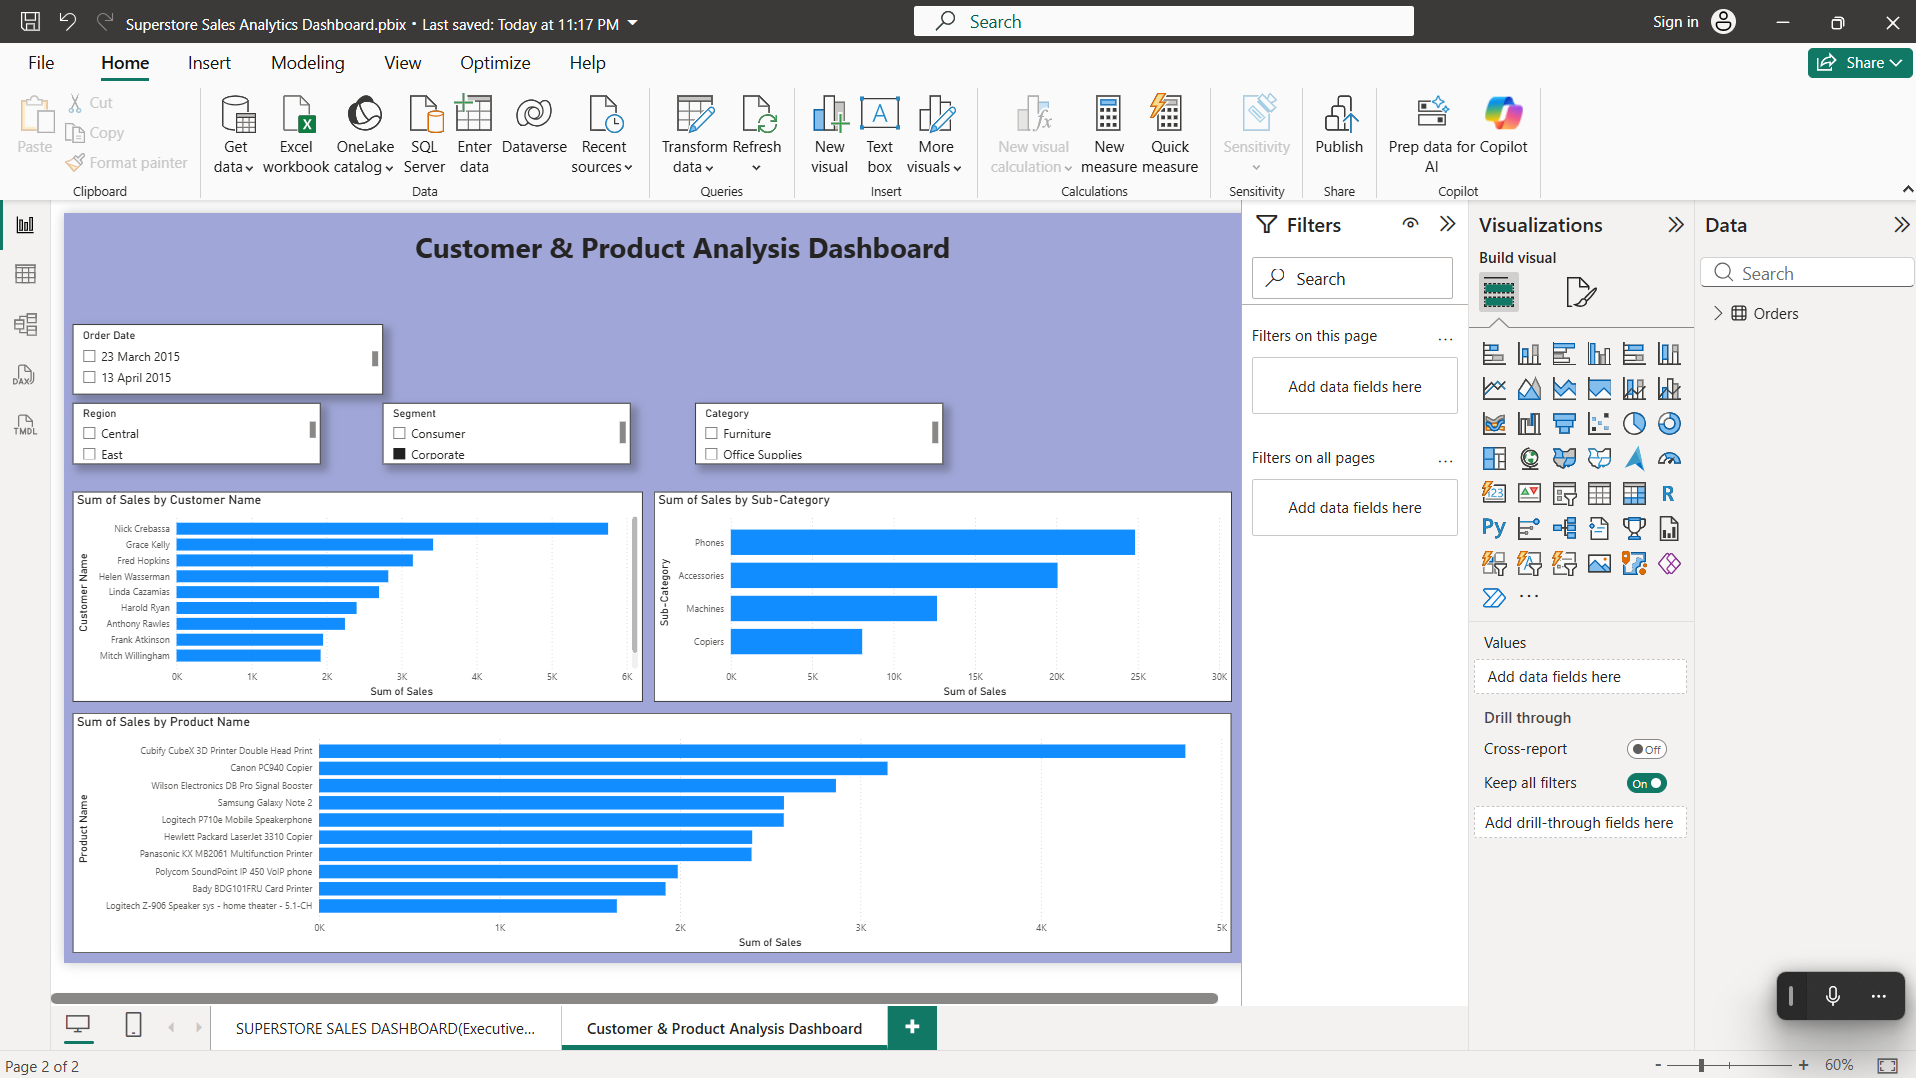

Layout of this report page (visuals, bound fields, positions):
{"tool":"powerbi","page":{"name":"Customer & Product Analysis Dashboard","canvas":[1600,1000],"ordinal":1},"visuals":[{"type":"clusteredBarChart","fields":{"Y":["Sum(Orders.Sales)"],"Category":["Orders.Customer Name"]},"box":[11.7,371.7,760,280],"z":0},{"type":"clusteredBarChart","fields":{"Category":["Orders.Sub-Category"],"Y":["Sum(Orders.Sales)"]},"box":[786.7,371.7,770,280],"z":1000},{"type":"clusteredBarChart","fields":{"Category":["Orders.Product Name"],"Y":["Sum(Orders.Sales)"]},"box":[11.7,666.7,1545,320],"z":2000},{"type":"slicer","fields":{"Values":["Orders.Order Date"]},"box":[11.7,148.3,413.3,93.3],"z":3000},{"type":"slicer","fields":{"Values":["Orders.Region"]},"box":[11.7,253.3,330,81.7],"z":4000},{"type":"slicer","fields":{"Values":["Orders.Segment"]},"box":[425,253.3,330,81.7],"z":5000},{"type":"slicer","fields":{"Values":["Orders.Category"]},"box":[841.7,253.3,330,81.7],"z":6000},{"type":"textbox","box":[463.3,15,756.7,63.3],"z":7000}]}

Visuals, with their boxes on the page's 1600x1000 design canvas (x1, y1, x2, y2). These are canvas units, not pixel positions in the 1916x1078 screenshot, which may show the page scaled, cropped or inside an application window:
clusteredBarChart - Sum(Orders.Sales) x Orders.Customer Name: detection(12, 372, 772, 652)
clusteredBarChart - Orders.Sub-Category x Sum(Orders.Sales): detection(787, 372, 1557, 652)
clusteredBarChart - Orders.Product Name x Sum(Orders.Sales): detection(12, 667, 1557, 987)
slicer - Orders.Order Date: detection(12, 148, 425, 242)
slicer - Orders.Region: detection(12, 253, 342, 335)
slicer - Orders.Segment: detection(425, 253, 755, 335)
slicer - Orders.Category: detection(842, 253, 1172, 335)
textbox: detection(463, 15, 1220, 78)
